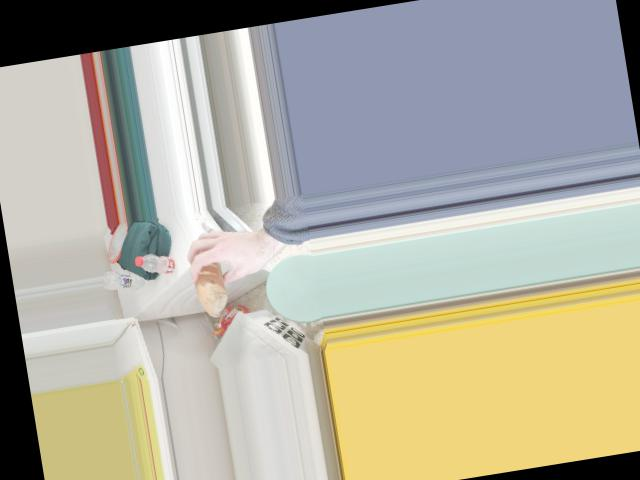sweet_potato: (191, 258, 227, 307)
